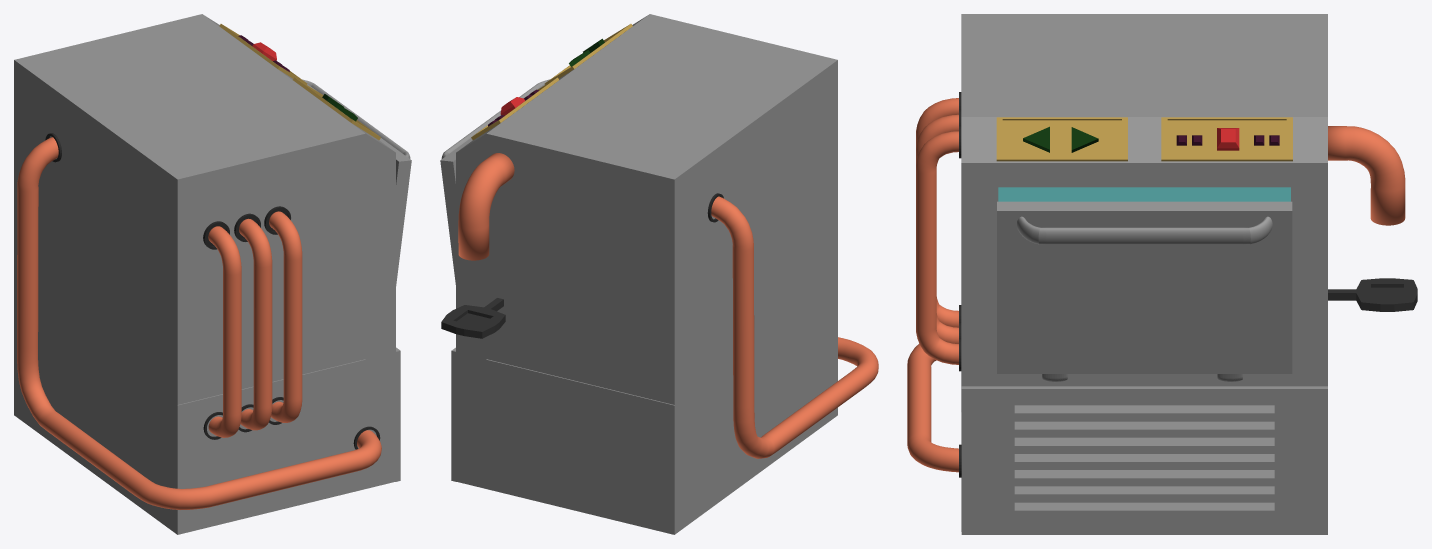
Rendered from buzMakine.fbx.
3 views of the same model, side by side, from view 1: azimuth 30°, elevation 25°; view 2: azimuth 150°, elevation 25°; view 3: azimuth 270°, elevation 25° (orthographic). The views are drawn at different scales.
Parts seen in each view (by area): view 1: buzMakine; view 2: buzMakine, buzMakine.001; view 3: buzMakine, buzMakine.001.
Boxes of the visible parts, box(x1,y1,x2,y2) form: buzMakine: box(14, 14, 411, 534); buzMakine: box(440, 14, 878, 534); buzMakine.001: box(441, 298, 505, 338); buzMakine: box(907, 14, 1405, 534); buzMakine.001: box(1328, 278, 1417, 311).
Bounding box in the file's own units: 717 × 803 × 928.
